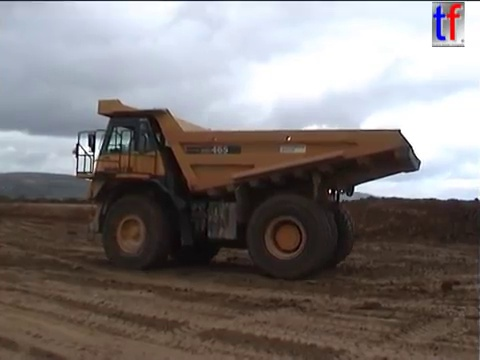truck: (70, 97, 423, 281)
